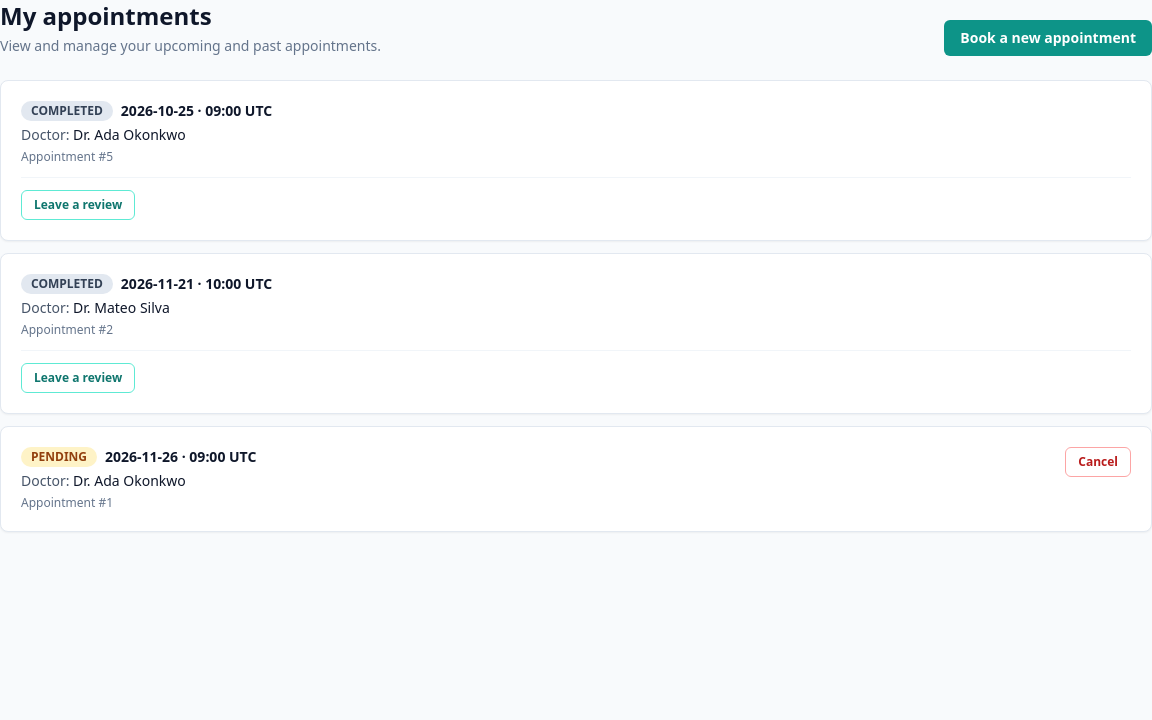
it: MyAppointmentsPage › explains when an appointment has already been reviewed (409)
Click the button with aria-label "leave a review for appointment 5": (78, 205) [21, 190, 135, 220]
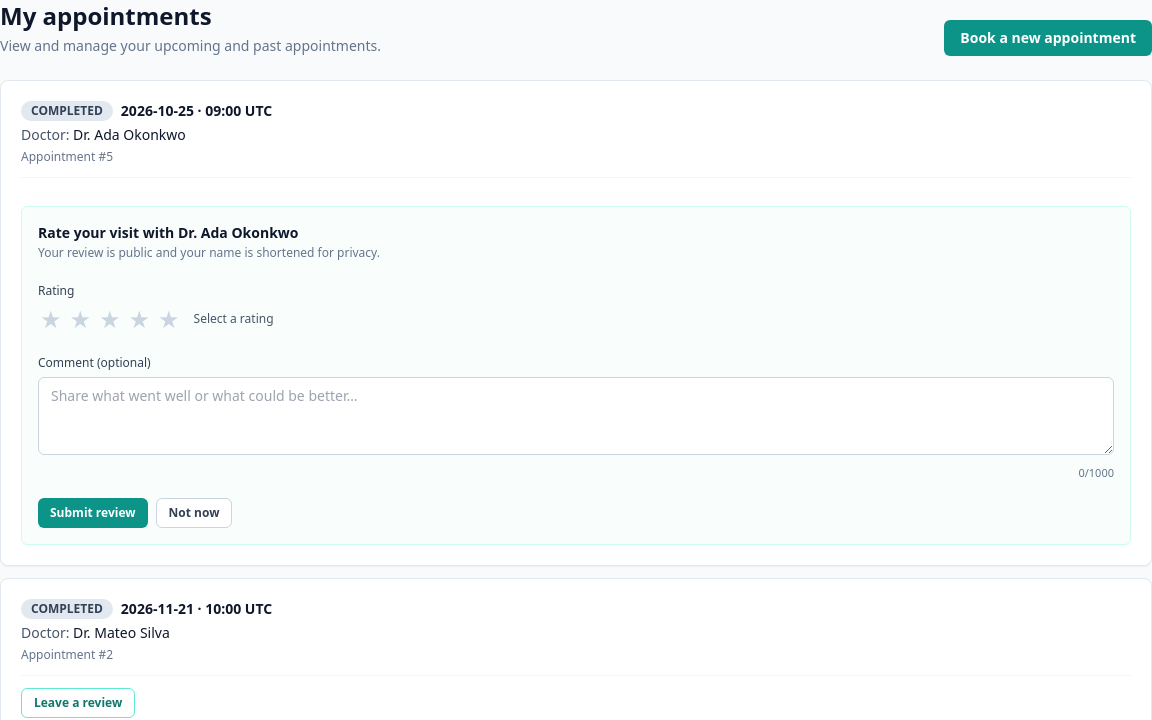
Click the button named "4 stars": (139, 319) [126, 305, 152, 333]
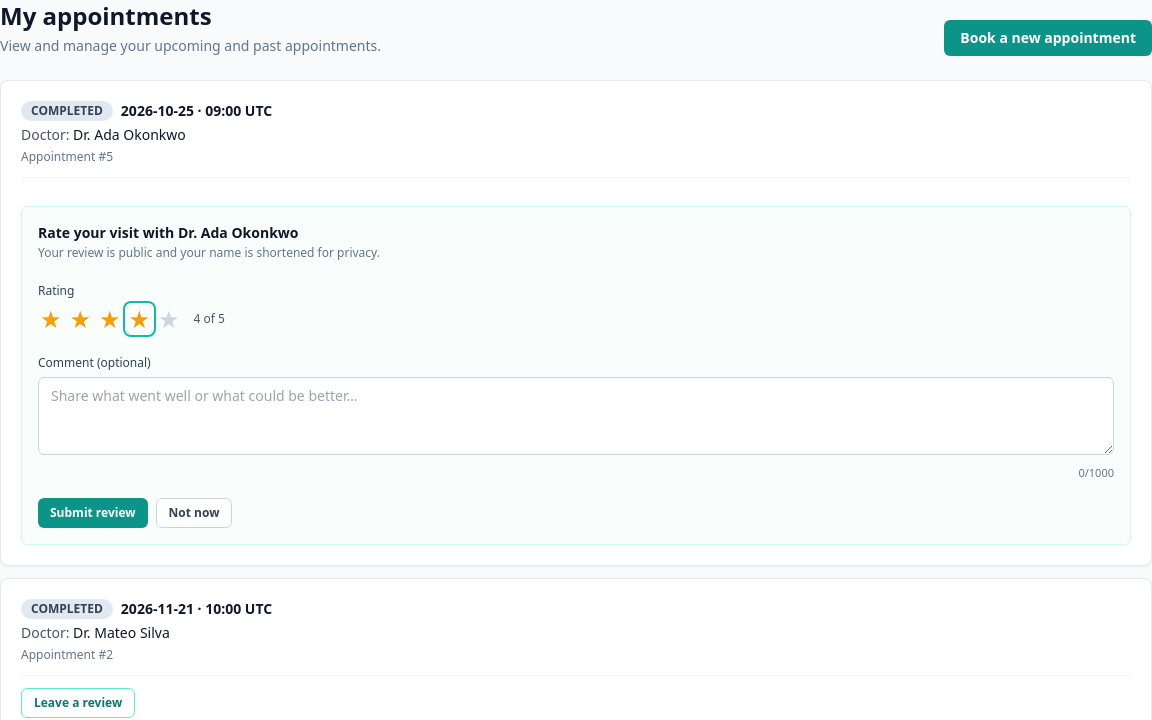
Click the button "Submit review": (93, 512) [38, 498, 148, 528]
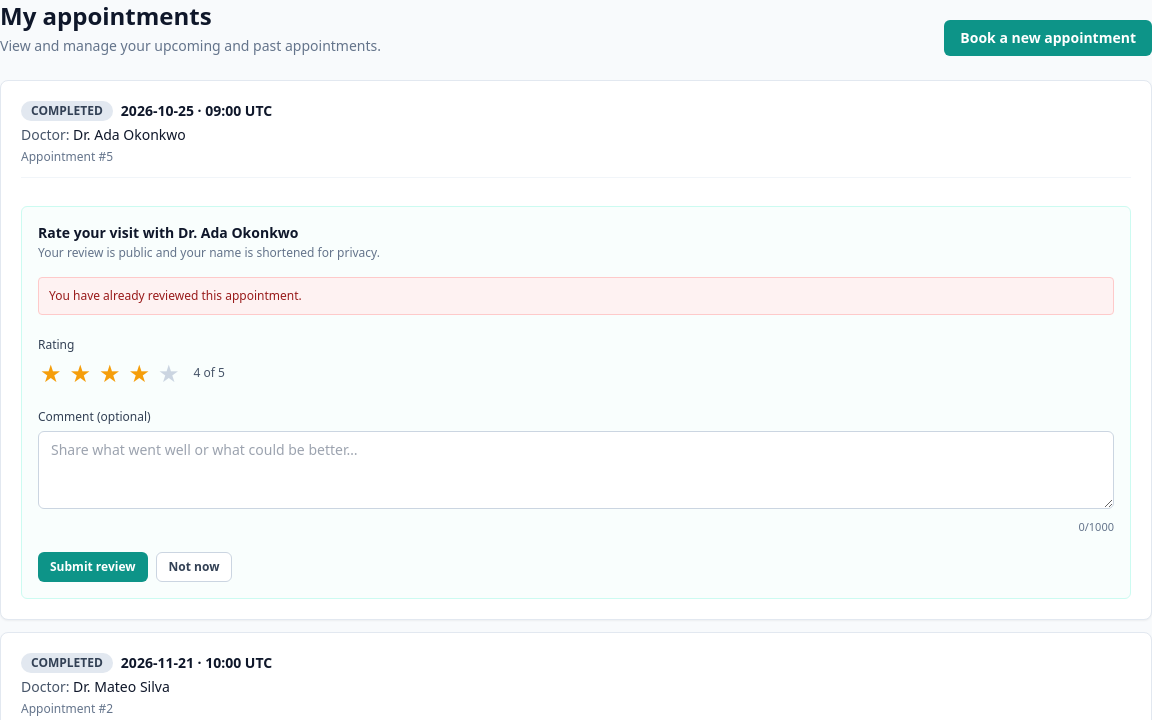
Check: the message shows "already reviewed", box [49, 287, 302, 304]
